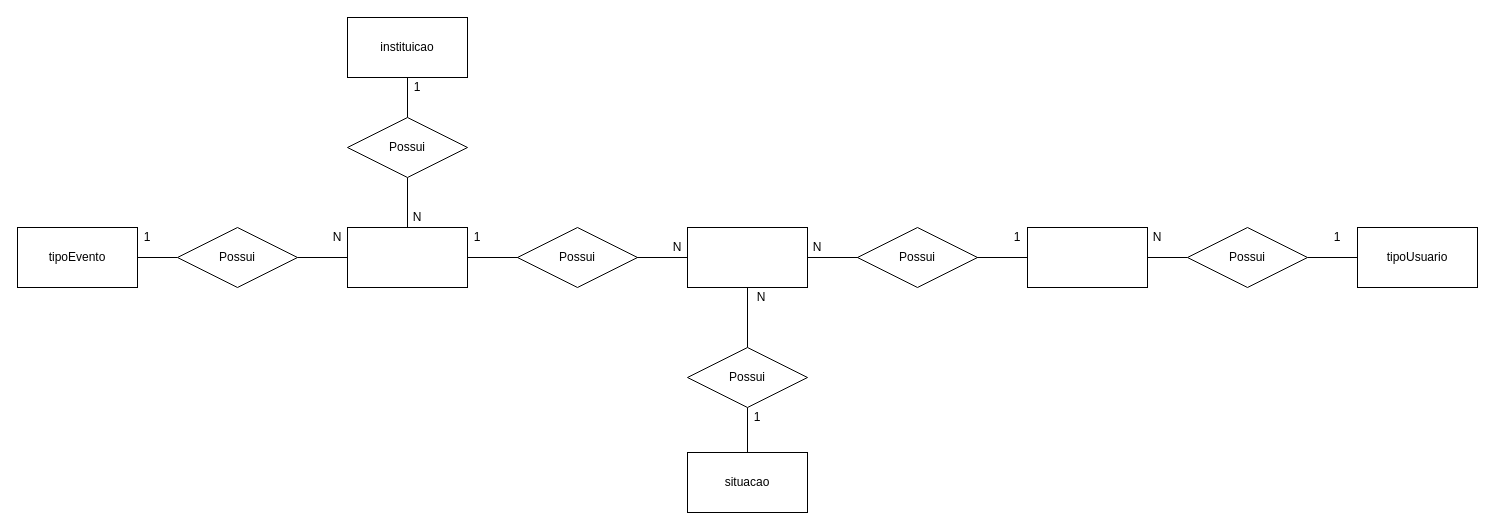
The diagram is 1495 pixels wide and 530 high, and some of its shapes have lost their labels. The shapes that lost their labels are listed below. From the top down, each one's centre as x and y in pixels, then its label:
At (x=407, y=257): "evento".
At (x=747, y=257): "convite".
At (x=1087, y=257): "usuario".
